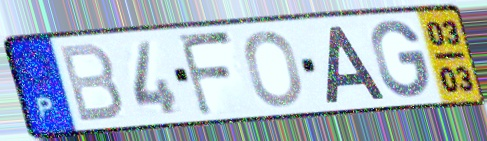4: (128, 38, 181, 117)
A: (323, 23, 388, 105)
B: (55, 41, 126, 126)
F: (175, 30, 237, 119)
G: (368, 18, 432, 101)
O: (241, 29, 306, 110)
